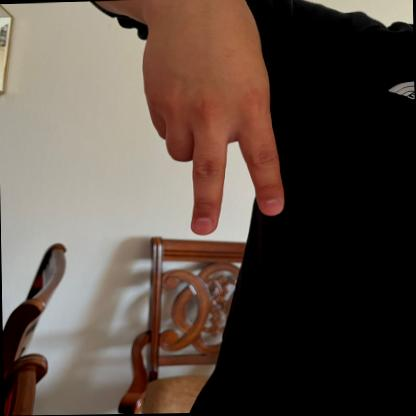N: (139, 0, 286, 239)
